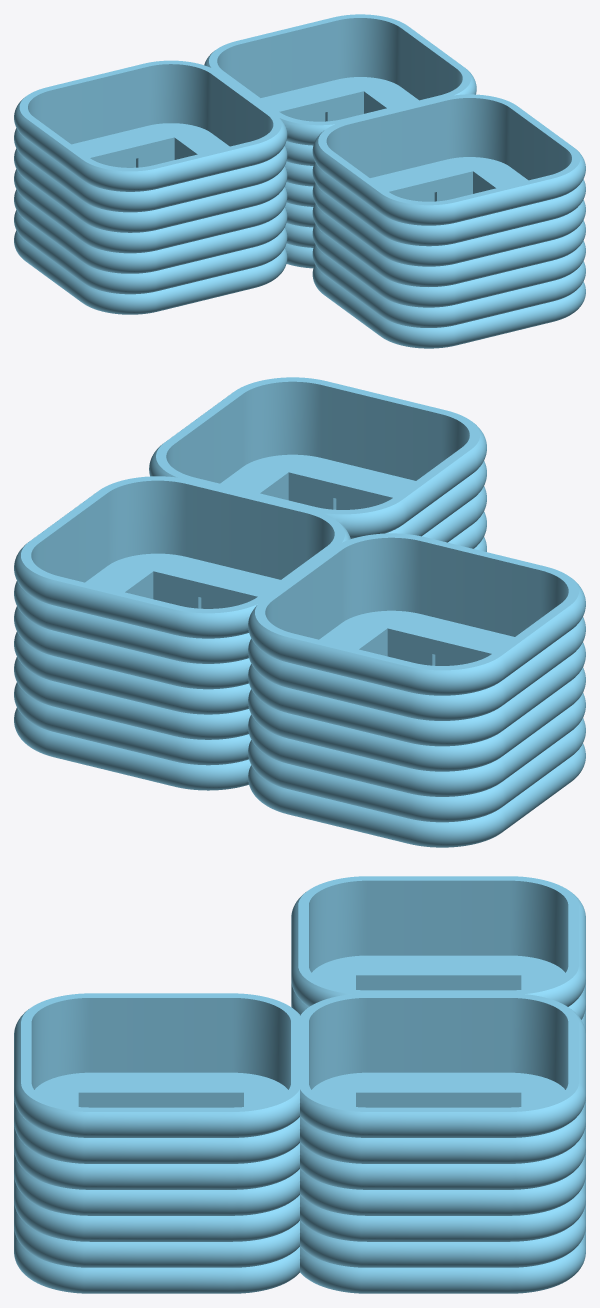
The model's file is gallery-7.glb.
3 renders of one model, top to bottom at view 1: azimuth 30°, elevation 25°; view 2: azimuth 150°, elevation 25°; view 3: azimuth 270°, elevation 25°, orthographic. The views are drawn at different scales.
Size of the model in its own units: 48.49 by 17 by 48.49.
